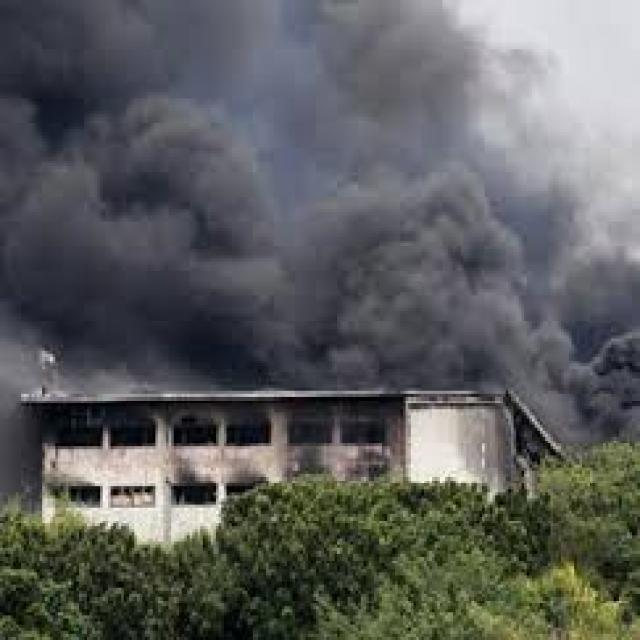Smoke: (1, 0, 640, 457)
